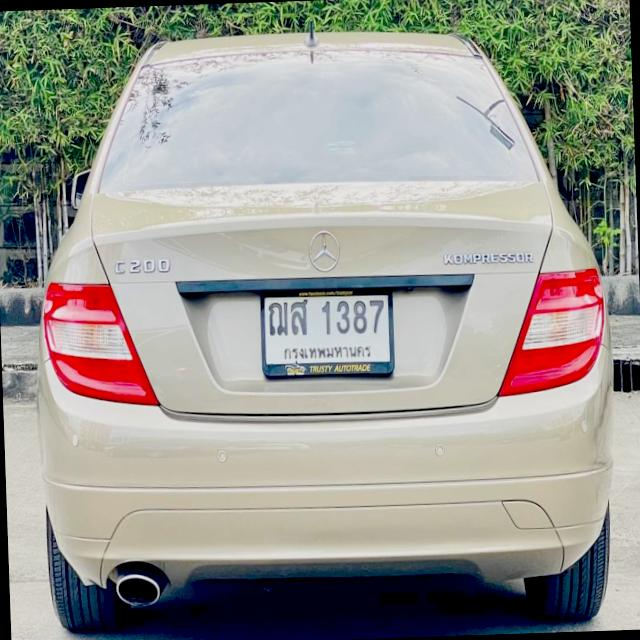license_plate: (257, 284, 396, 381)
